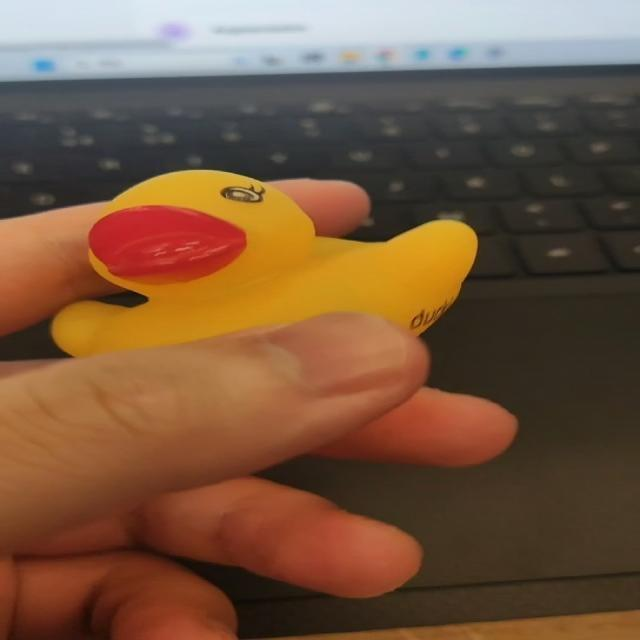rubber-duck: (51, 169, 475, 354)
